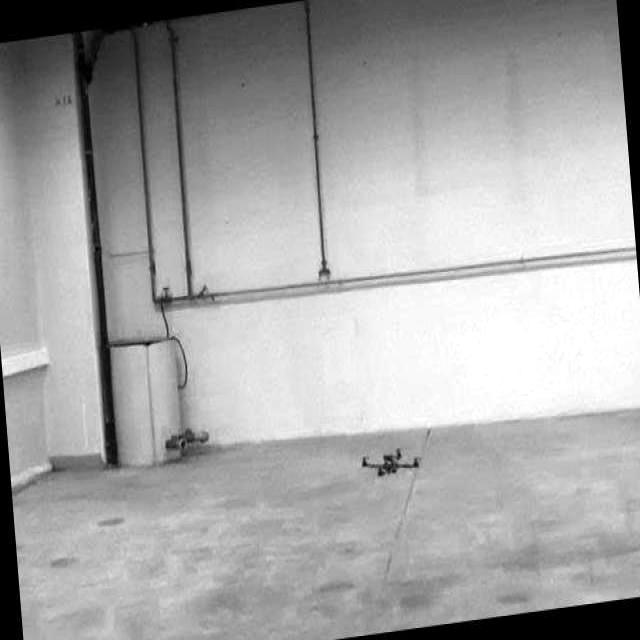drone: (354, 438, 424, 486)
